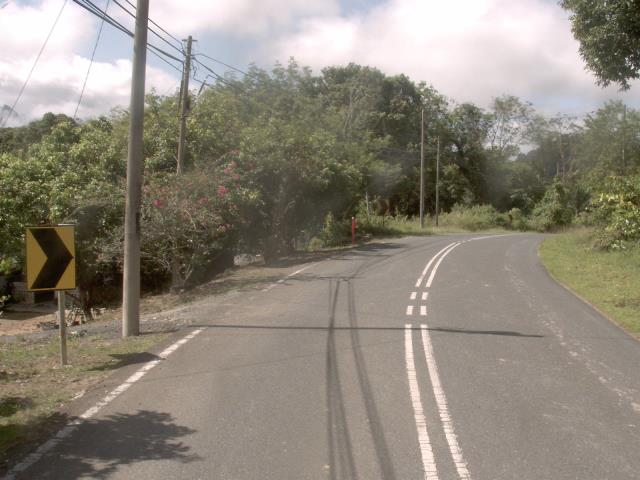traffic_sign: (15, 214, 85, 304)
